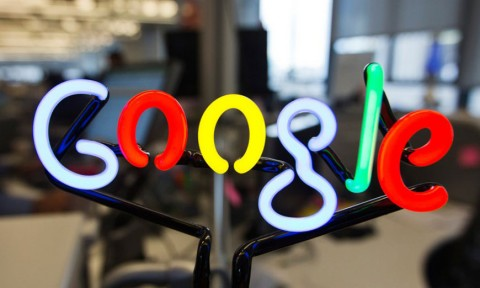google: (29, 58, 453, 232)
